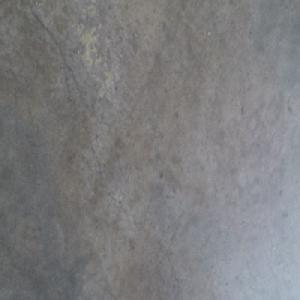Wrench: (165, 294, 173, 299)
